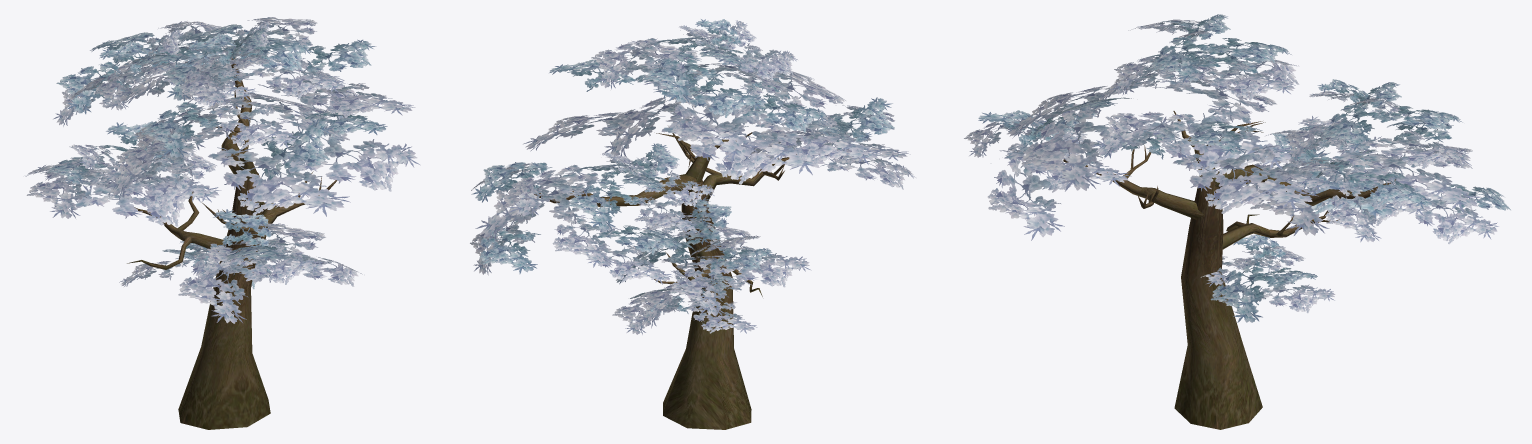
File: KL_shu.fbx
3 views of the same model, side by side, from view 1: azimuth 30°, elevation 25°; view 2: azimuth 150°, elevation 25°; view 3: azimuth 270°, elevation 25° (orthographic). The views are drawn at different scales.
Parts seen in each view (by area): view 1: kl_SHU:polySurface376, kl_SHU:polySurface399; view 2: kl_SHU:polySurface376, kl_SHU:polySurface399; view 3: kl_SHU:polySurface376, kl_SHU:polySurface399.
Part boxes in pixels (x1,y1,x2,y2): kl_SHU:polySurface376: (25,17,420,323); kl_SHU:polySurface399: (127,58,336,429); kl_SHU:polySurface376: (470,19,915,334); kl_SHU:polySurface399: (534,126,796,429); kl_SHU:polySurface376: (964,14,1510,322); kl_SHU:polySurface399: (1063,111,1395,429).
Bounding box in the file's own units: 10.75 × 12.27 × 15.8.
2 materials, 2 textured.
